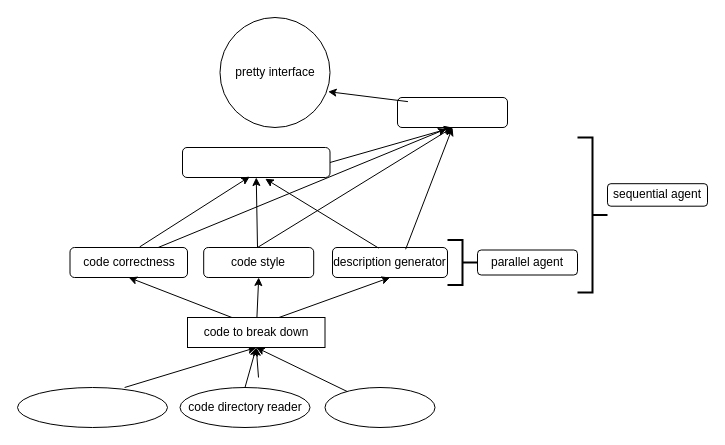
Some shapes in this 725 by 445 pixel diagram are drawn without their labels. The centre of each missing label's shape, as x and y in pixels:
"code file reader" goes at point (379, 407).
"possible improvements" goes at point (256, 162).
"report generator" goes at point (452, 112).
"repository import tool" goes at point (92, 407).
